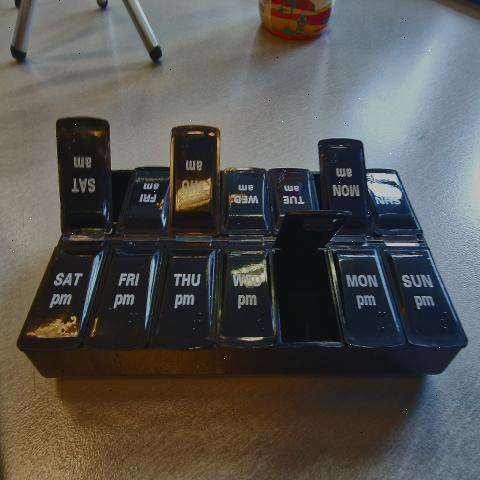Open: (275, 212, 349, 344), (108, 124, 133, 230)
